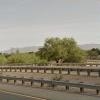Tree: (26, 23, 86, 66)
